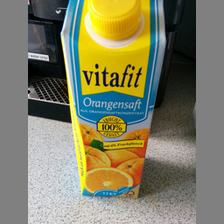juice: (60, 1, 166, 198)
